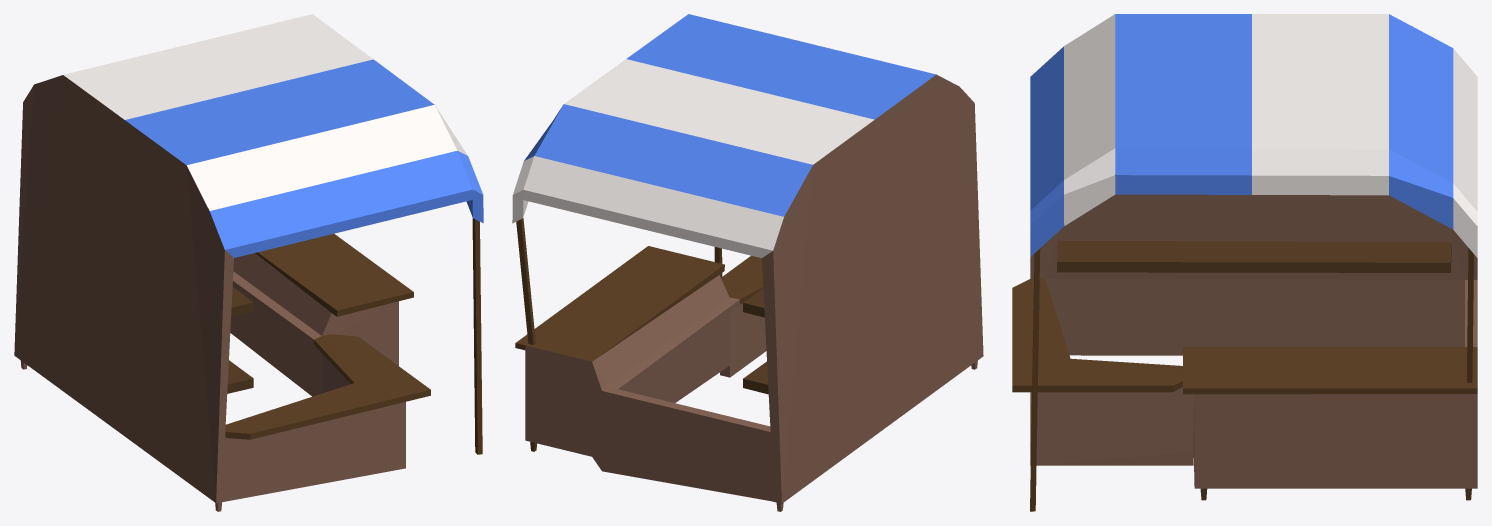
File: storebooth.fbx
The picture shows the model from 3 angles, left to right: view 1: azimuth 30°, elevation 25°; view 2: azimuth 150°, elevation 25°; view 3: azimuth 270°, elevation 25°; orthographic projection. The views are drawn at different scales.
Parts seen in each view (by area): view 1: Cube.001; view 2: Cube.001; view 3: Cube.001.
Boxes of the visible parts, box(x1,y1,x2,y2) form: Cube.001: box(14, 14, 483, 511); Cube.001: box(512, 14, 983, 511); Cube.001: box(1012, 14, 1477, 511).
Bounding box in the file's own units: 1.41 × 1.9 × 1.62.
